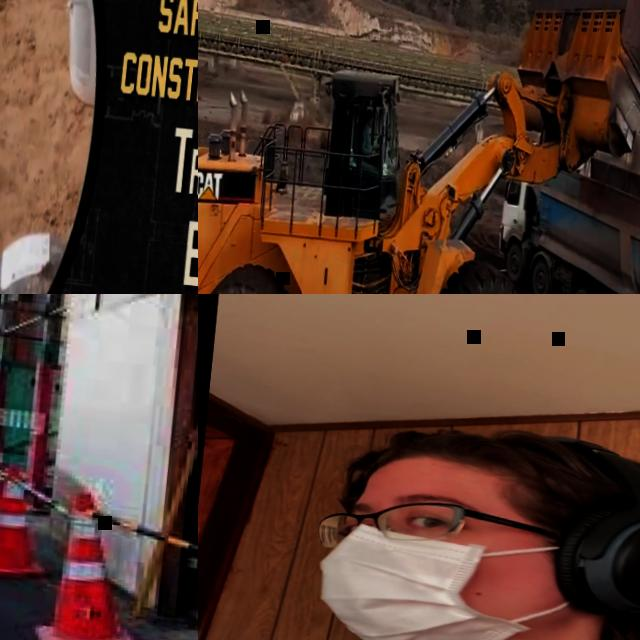Mask: (309, 517, 577, 640)
NO-Hardhat: (361, 411, 640, 519), (365, 108, 373, 118)
NO-Mask: (368, 121, 372, 128)
NO-Safety Vest: (360, 125, 372, 151)
Person: (198, 391, 640, 640), (158, 347, 198, 638), (358, 108, 386, 170)
Safety Cone: (28, 486, 143, 640), (0, 465, 67, 581)
vehicle: (198, 0, 640, 294), (485, 132, 640, 294)
